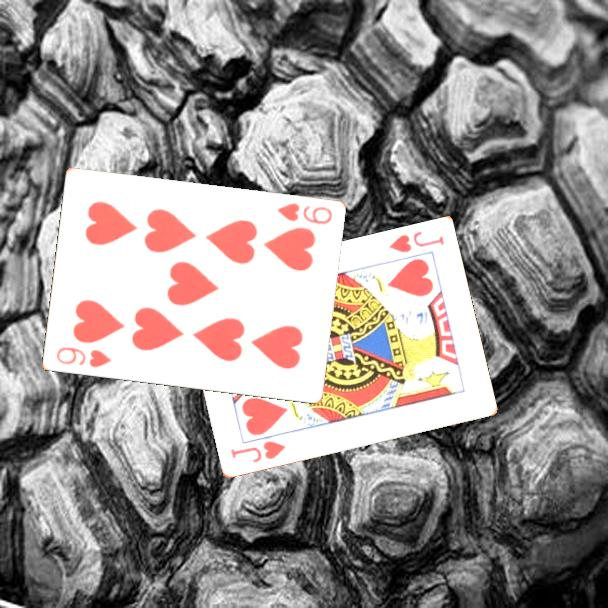h09: (52, 344, 114, 371), (273, 200, 335, 227)
h11: (227, 438, 289, 466), (386, 228, 447, 256)
